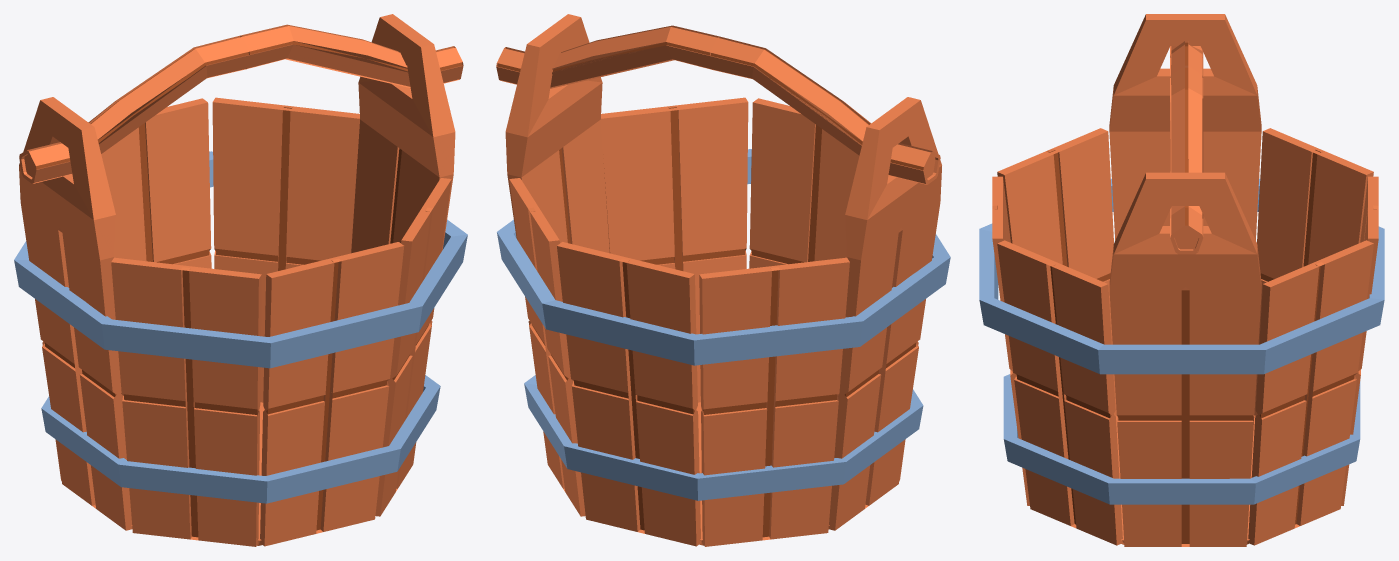
Rendered from Bucket.fbx.
The picture shows the model from 3 angles, left to right: view 1: azimuth 30°, elevation 25°; view 2: azimuth 150°, elevation 25°; view 3: azimuth 270°, elevation 25°; orthographic projection. The views are drawn at different scales.
Visible parts, largest first — view 1: Bucket; view 2: Bucket; view 3: Bucket.
Part boxes in pixels (box(x1,y1,x2,y2)): Bucket: box(14, 14, 467, 546); Bucket: box(496, 14, 950, 546); Bucket: box(979, 14, 1384, 546).
Size of the model in its own units: 161 by 158 by 138.
